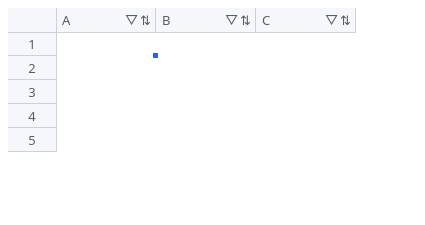
Test: LatticaGrid custom editors (P2-1) › mounts a registered editor and commits through the normal pipeline
Double-click the table with test id "lattica-grid" at x=208, y=108, box left=8, top=8, right=408, bottom=208
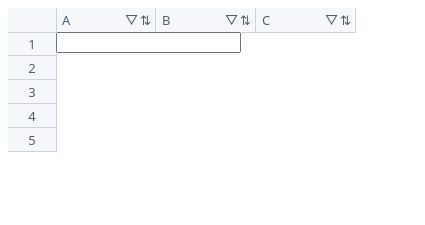
Now the field is shown, box left=56, top=32, right=241, bottom=53
